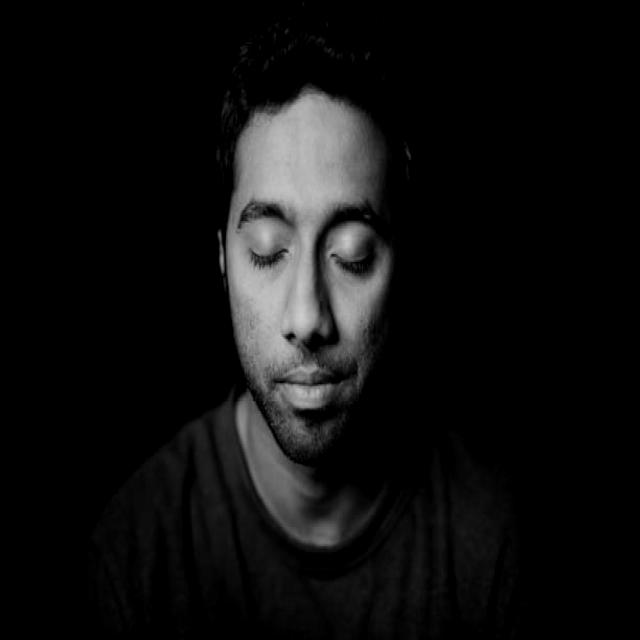real: (214, 86, 403, 464), (226, 180, 396, 278)
